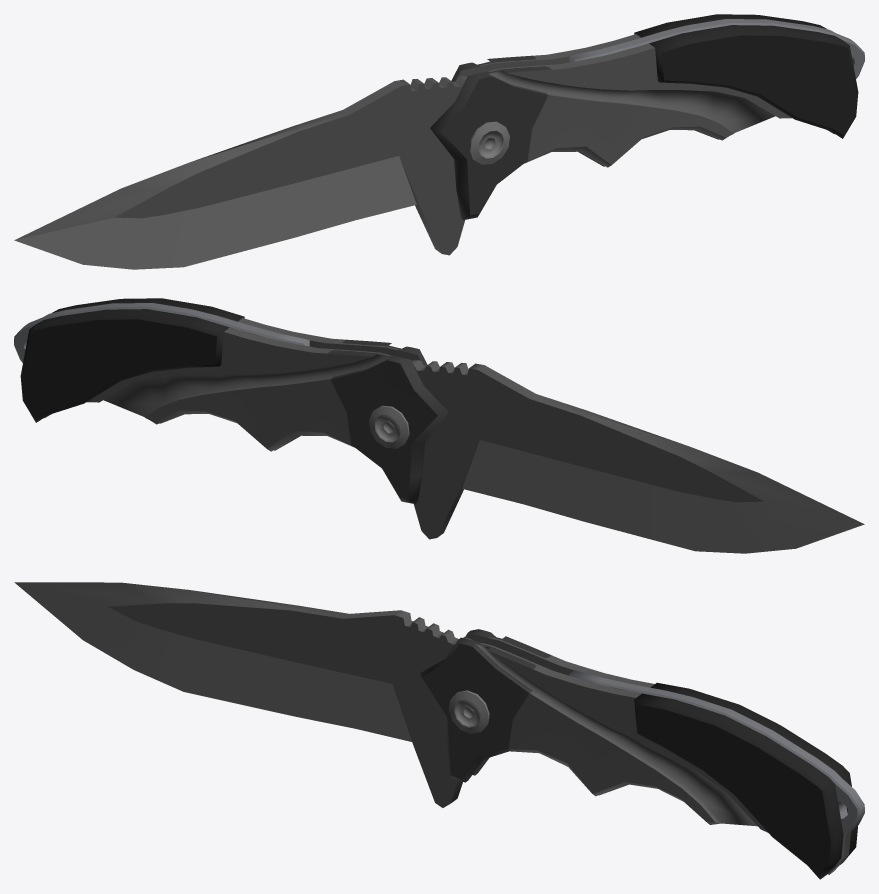
The picture shows the model from 3 angles, top to bottom: view 1: azimuth 30°, elevation 25°; view 2: azimuth 150°, elevation 25°; view 3: azimuth 330°, elevation 25°; orthographic projection.
Parts seen in each view (by area): view 1: knife; view 2: knife; view 3: knife.
Boxes of the visible parts, bbox=[...] form: knife: bbox=[14, 14, 864, 269]; knife: bbox=[14, 298, 864, 553]; knife: bbox=[14, 582, 864, 879].
Size of the model in its own units: 4.91 by 1 by 0.2623.
1 material, 1 textured.
